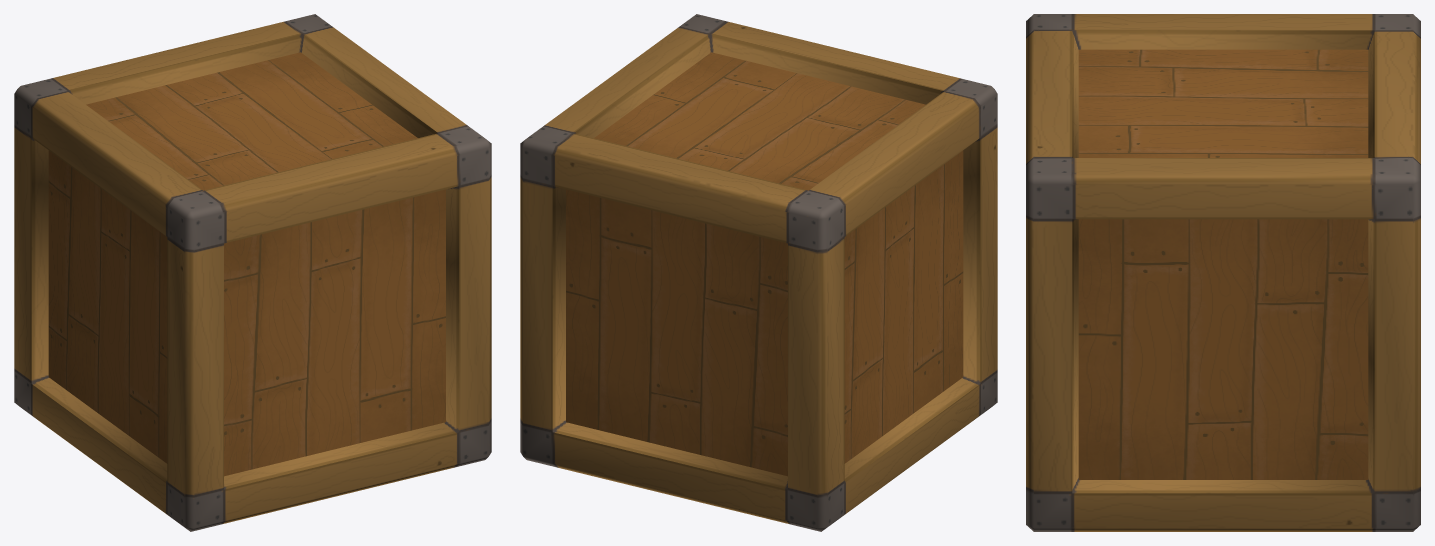
3 renders of one model, left to right at view 1: azimuth 30°, elevation 25°; view 2: azimuth 150°, elevation 25°; view 3: azimuth 270°, elevation 25°, orthographic. The views are drawn at different scales.
Visible parts, largest first — view 1: pCube6; view 2: pCube6; view 3: pCube6.
Boxes of the visible parts, x1=… form: pCube6: x1=14, y1=14, x2=491, y2=531; pCube6: x1=520, y1=14, x2=997, y2=531; pCube6: x1=1026, y1=14, x2=1420, y2=531.
Bounding box in the file's own units: 0.5548 × 0.5548 × 0.5548.
Materials: 1 (1 with a texture image).
